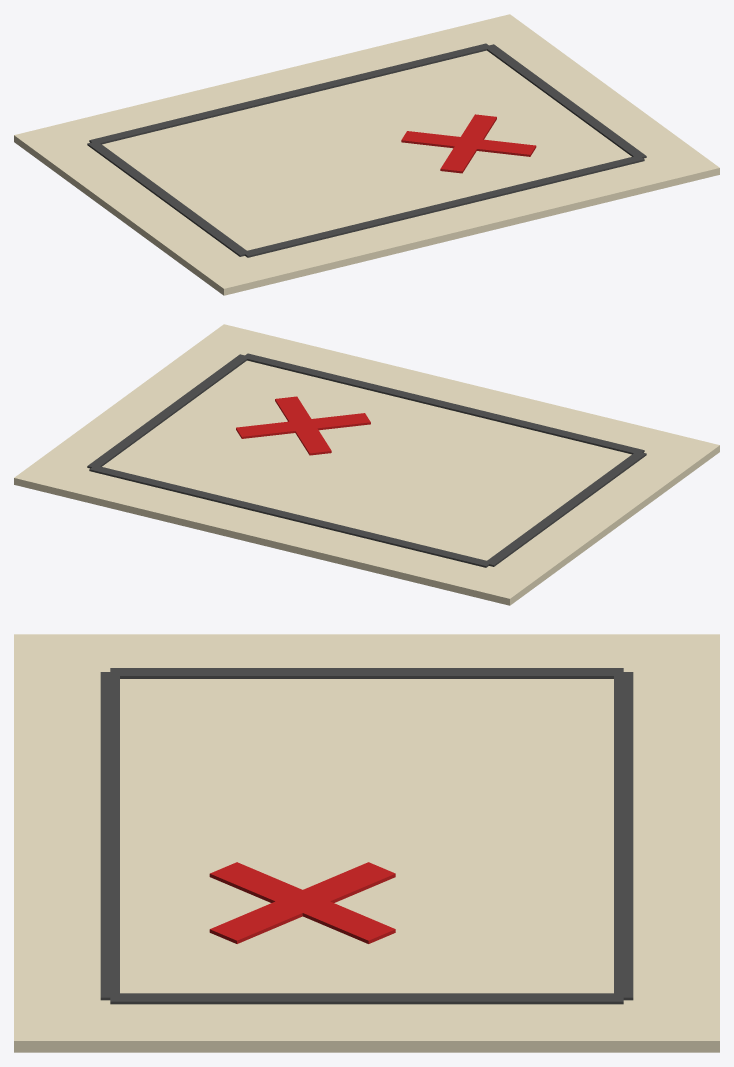
File: sty_map.glb
3 views of the same model, one above another, from view 1: azimuth 30°, elevation 25°; view 2: azimuth 150°, elevation 25°; view 3: azimuth 270°, elevation 25° (orthographic). The views are drawn at different scales.
Visible parts, largest first — view 1: paper_map_paper, fence_pencil_grey, cross_cross_red (×2); view 2: paper_map_paper, fence_pencil_grey, cross_cross_red (×2); view 3: paper_map_paper, fence_pencil_grey, cross_cross_red (×2).
Part boxes in pixels (bbox=[...]): paper_map_paper: bbox=[14, 14, 719, 295]; fence_pencil_grey: bbox=[87, 43, 646, 257]; cross_cross_red (×2): bbox=[401, 114, 536, 173]; paper_map_paper: bbox=[14, 324, 719, 605]; fence_pencil_grey: bbox=[87, 353, 646, 567]; cross_cross_red (×2): bbox=[236, 396, 370, 455]; paper_map_paper: bbox=[14, 634, 719, 1052]; fence_pencil_grey: bbox=[100, 668, 633, 1004]; cross_cross_red (×2): bbox=[209, 862, 395, 943].
Bounding box in the file's own units: 0.3 × 0.0054 × 0.22.
